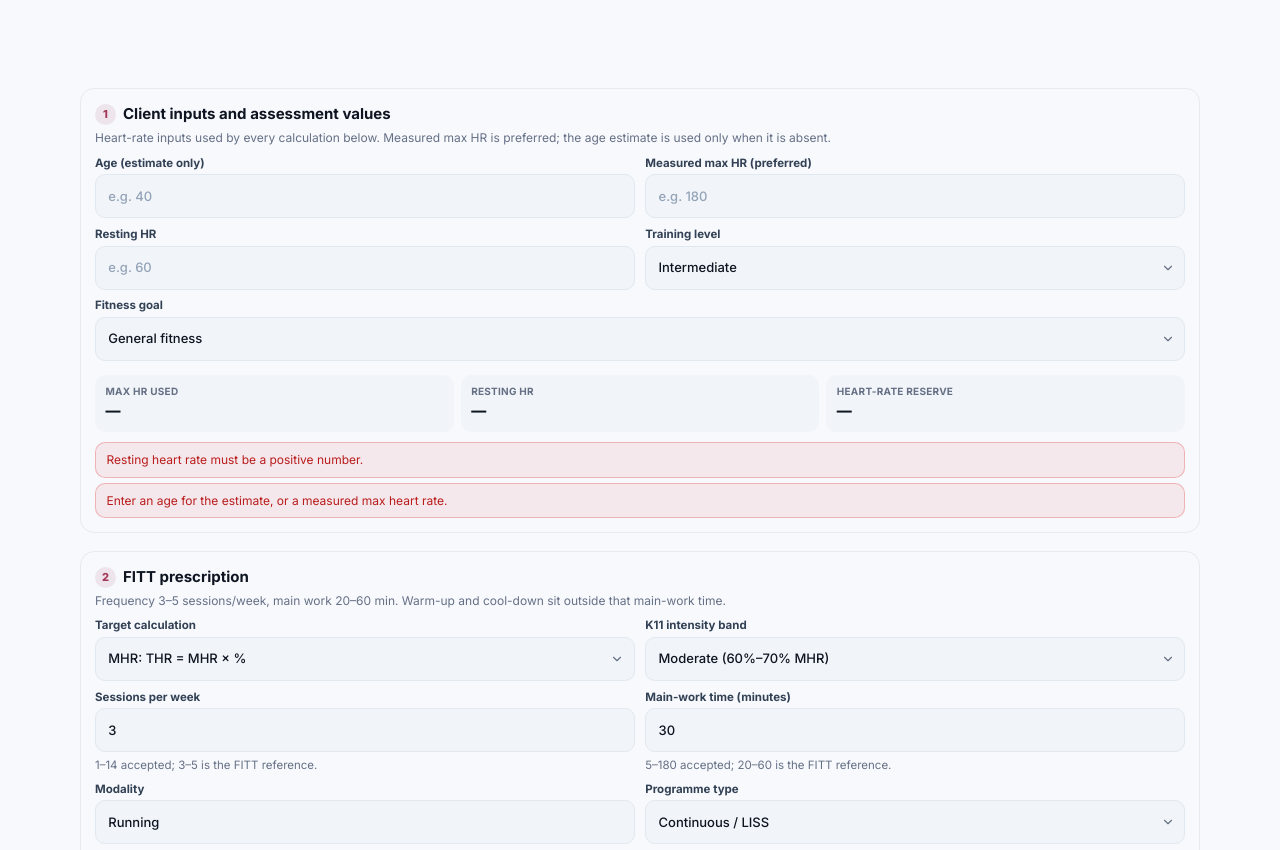
Test: <CardioCalculatorPage /> › uses the moderate band (60–70% MHR) for age 40 with resting HR 60
Type "40" into the field with placeholder "e.g. 40". click: (365, 196)
box: x1=95 y1=174 x2=635 y2=218
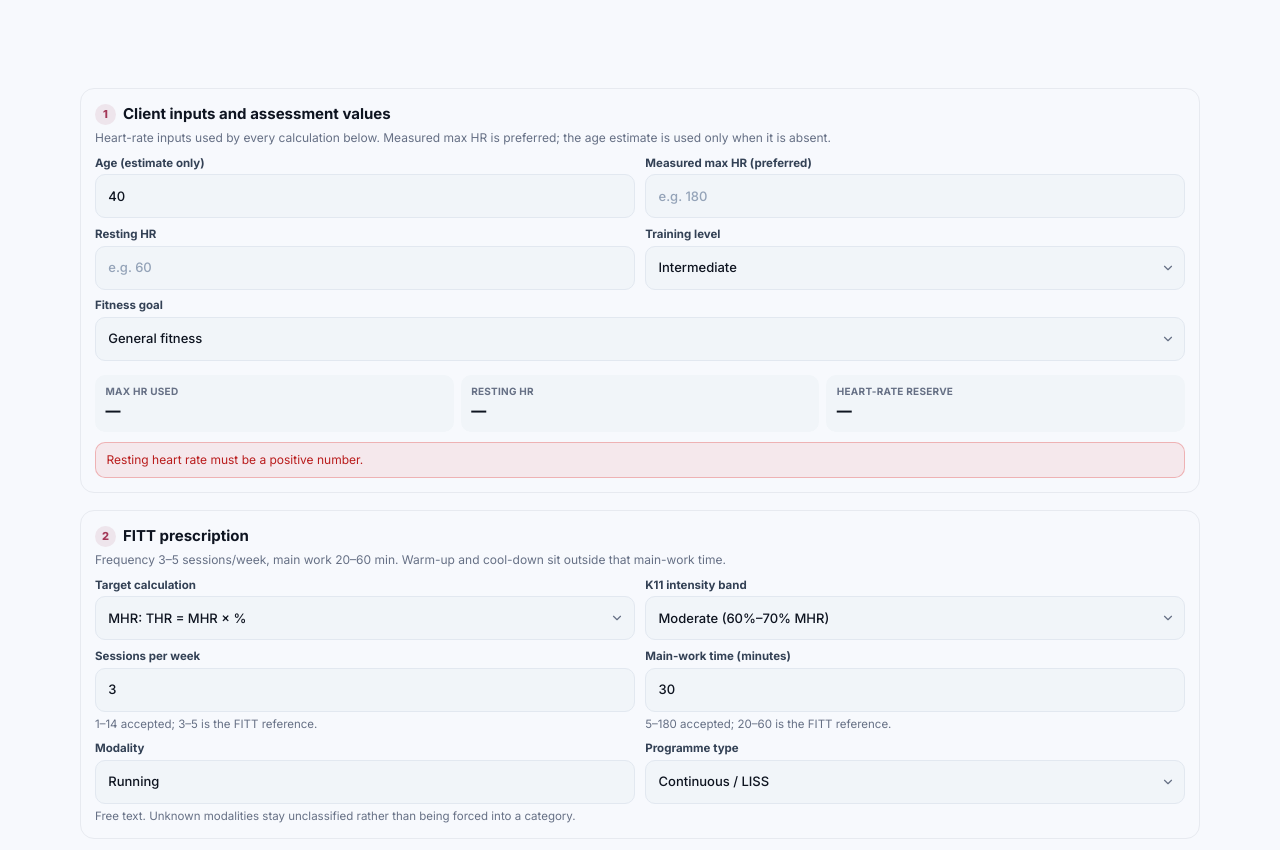
Type "60" into the field with placeholder "e.g. 60". click: (365, 268)
box: x1=95 y1=246 x2=635 y2=290
(page scrolled)
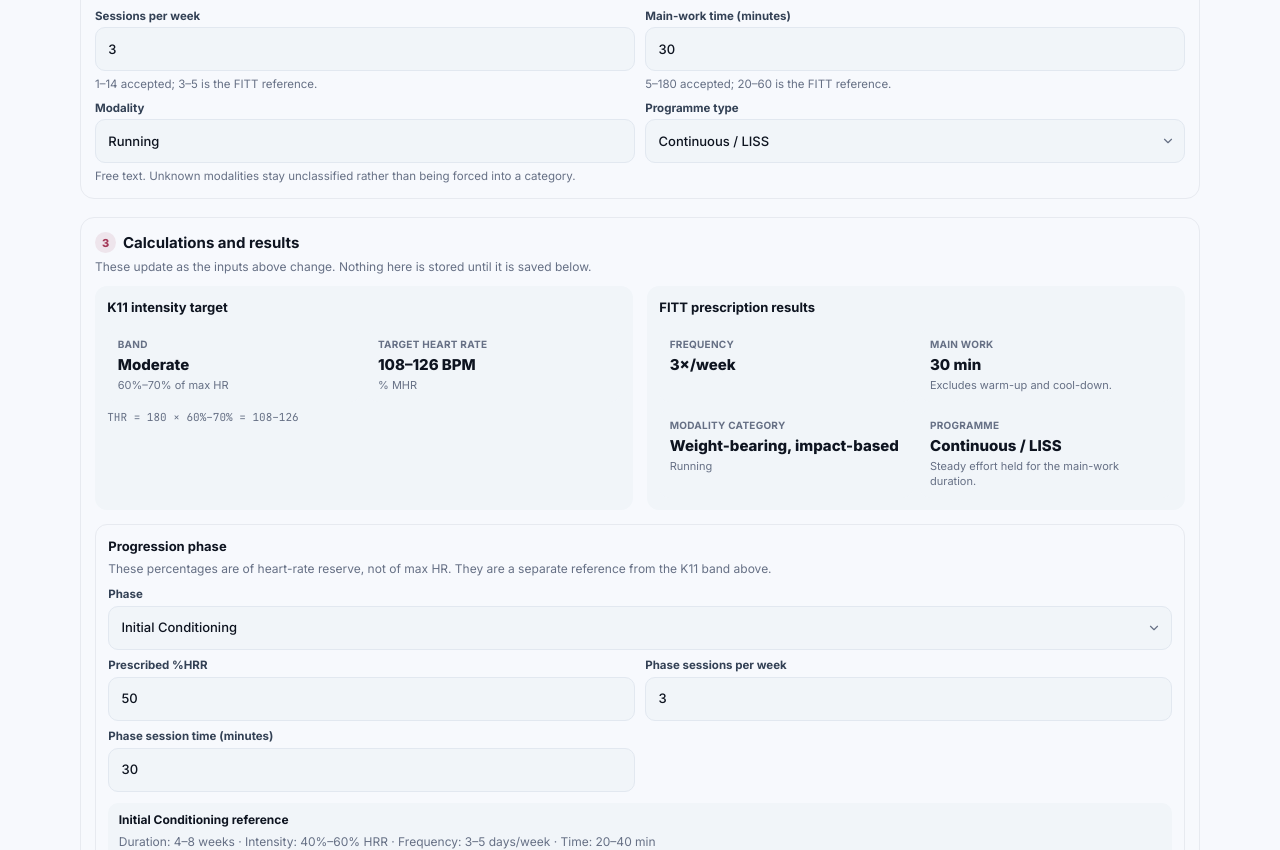
Now the text "108–126 BPM" is shown, box x1=378 y1=355 x2=476 y2=374
Now the text "THR = 180 × 60%–70% = 108–126" is shown, box x1=107 y1=410 x2=299 y2=424
